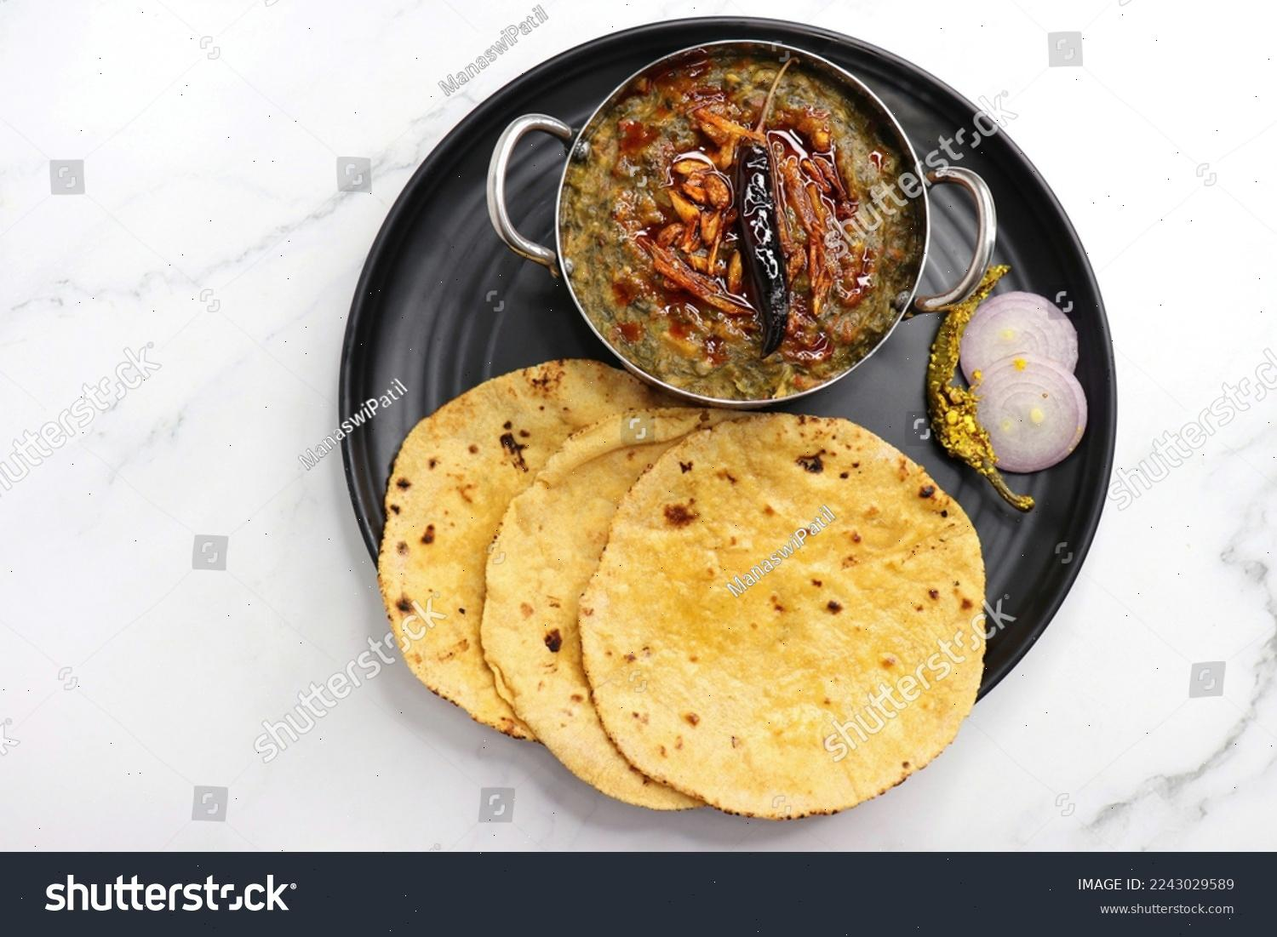saag: (564, 57, 915, 396)
